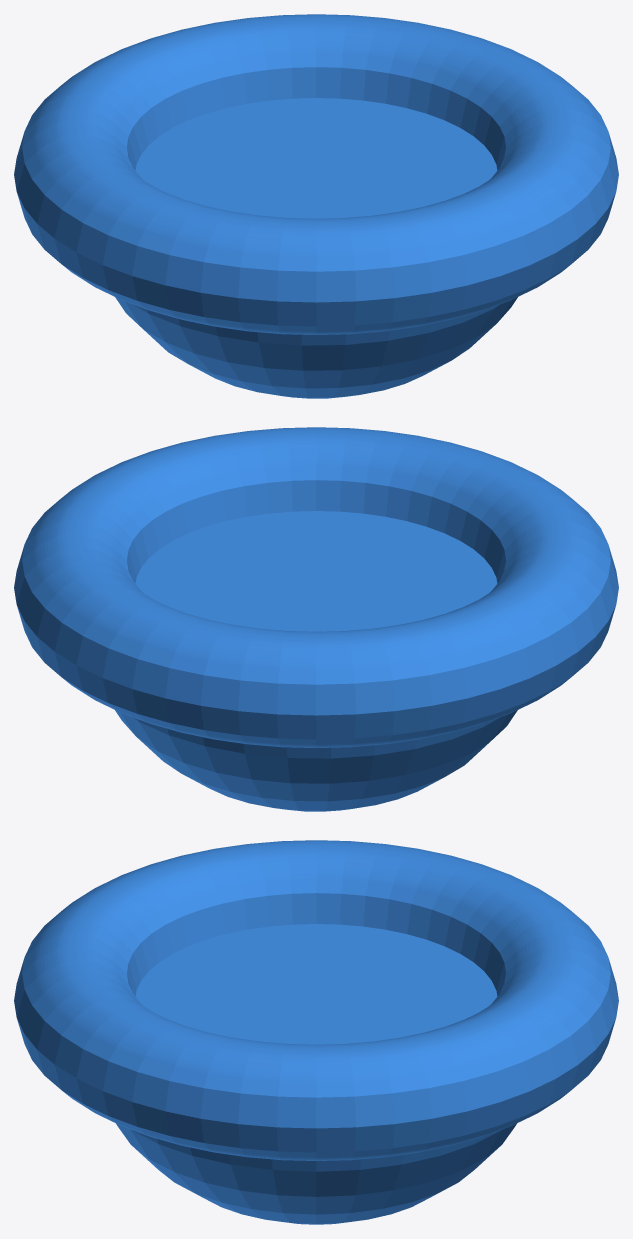
File: Blue_Button_Up.fbx
3 renders of one model, top to bottom at view 1: azimuth 30°, elevation 25°; view 2: azimuth 150°, elevation 25°; view 3: azimuth 270°, elevation 25°, orthographic.
Visible parts, largest first — view 1: Torus, Sphere; view 2: Torus, Sphere; view 3: Torus, Sphere.
Boxes of the visible parts, x1,y1,x2,y2 form: Torus: [14, 14, 618, 334]; Sphere: [115, 98, 517, 398]; Torus: [14, 427, 618, 747]; Sphere: [115, 511, 517, 811]; Torus: [14, 840, 618, 1160]; Sphere: [116, 924, 516, 1224].
Size of the model in its own units: 250 by 115 by 250.
